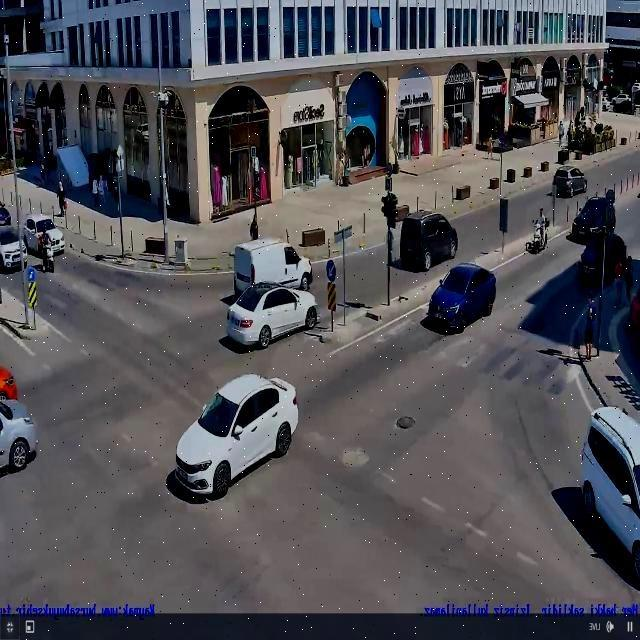Car: (171, 369, 300, 503), (578, 408, 640, 567), (225, 282, 319, 345), (424, 264, 502, 336), (24, 211, 69, 256), (569, 195, 616, 237), (552, 165, 589, 196)
Cycle: (39, 229, 58, 274)
Van: (235, 242, 314, 290), (398, 209, 458, 267)
